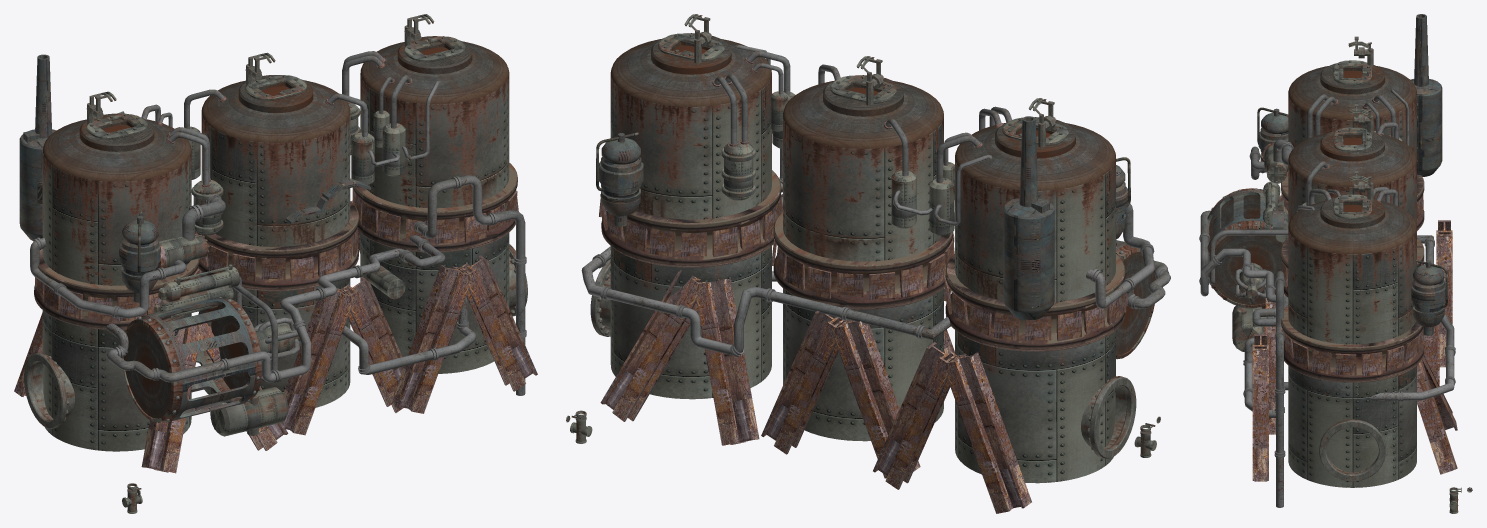
File: static.glb
3 views of the same model, side by side, from view 1: azimuth 30°, elevation 25°; view 2: azimuth 150°, elevation 25°; view 3: azimuth 270°, elevation 25° (orthographic). The views are drawn at different scales.
Parts seen in each view (by area): view 1: Cylinder_56, Cylinder_54, Cylinder_53, Sweep_16, Disc_2, Disc_4, Disc_3, Cube_4, Cube_3, Tube_2, Cube_5, Disc (+32 smaller); view 2: Cylinder_56, Cylinder_54, Cylinder_53, Sweep_16, Disc_2, Cube_17, Disc_3, Cylinder_51, Disc_4, Cube_14_4, Cube_15_4, Cube_16_4 (+25 smaller); view 3: Cylinder_54, Sweep_16, Disc_3, Disc_2, Disc_4, Disc, Cylinder_2_11, Cylinder_51, Cylinder_53, Cylinder_56, Cube_4, Cylinder_1_58 (+29 smaller).
Part boxes in pixels (x1=…): Cylinder_56: x1=42, y1=145, x2=191, y2=451; Cylinder_54: x1=360, y1=68, x2=509, y2=373; Cylinder_53: x1=201, y1=106, x2=350, y2=407; Sweep_16: x1=30, y1=175, x2=525, y2=395; Disc_2: x1=202, y1=80, x2=349, y2=142; Disc_4: x1=43, y1=119, x2=191, y2=181; Disc_3: x1=360, y1=41, x2=508, y2=104; Cube_4: x1=391, y1=255, x2=537, y2=410; Cube_3: x1=410, y1=263, x2=525, y2=413; Tube_2: x1=145, y1=298, x2=255, y2=421; Cube_5: x1=292, y1=284, x2=403, y2=435; Disc: x1=123, y1=304, x2=248, y2=418; Cylinder_56: x1=955, y1=151, x2=1115, y2=483; Cylinder_54: x1=610, y1=68, x2=771, y2=399; Cylinder_53: x1=783, y1=109, x2=943, y2=441; Sweep_16: x1=581, y1=129, x2=1170, y2=355; Disc_2: x1=783, y1=81, x2=943, y2=148; Cube_17: x1=873, y1=342, x2=1031, y2=509; Disc_3: x1=611, y1=39, x2=771, y2=106; Cylinder_51: x1=1003, y1=198, x2=1054, y2=320; Disc_4: x1=955, y1=123, x2=1115, y2=190; Cube_14_4: x1=612, y1=278, x2=745, y2=445; Cube_15_4: x1=600, y1=270, x2=759, y2=443; Cube_16_4: x1=885, y1=350, x2=1010, y2=513; Cylinder_54: x1=1288, y1=224, x2=1416, y2=487; Sweep_16: x1=1200, y1=146, x2=1454, y2=507; Disc_3: x1=1288, y1=200, x2=1416, y2=254; Disc_2: x1=1288, y1=133, x2=1416, y2=187; Disc_4: x1=1288, y1=66, x2=1416, y2=120; Disc: x1=1209, y1=194, x2=1282, y2=304; Cylinder_2_11: x1=1281, y1=305, x2=1424, y2=382; Cylinder_51: x1=1410, y1=79, x2=1442, y2=176; Cylinder_53: x1=1288, y1=157, x2=1416, y2=224; Cylinder_56: x1=1288, y1=90, x2=1416, y2=157; Cube_4: x1=1254, y1=334, x2=1267, y2=481; Cylinder_1_58: x1=1411, y1=264, x2=1445, y2=335.
Size of the model in its own units: 10.06 by 7.81 by 5.88.
Materials: 9 (9 with a texture image).
